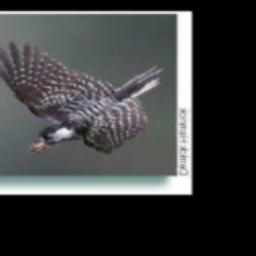Woodpecker: (0, 36, 162, 159)
